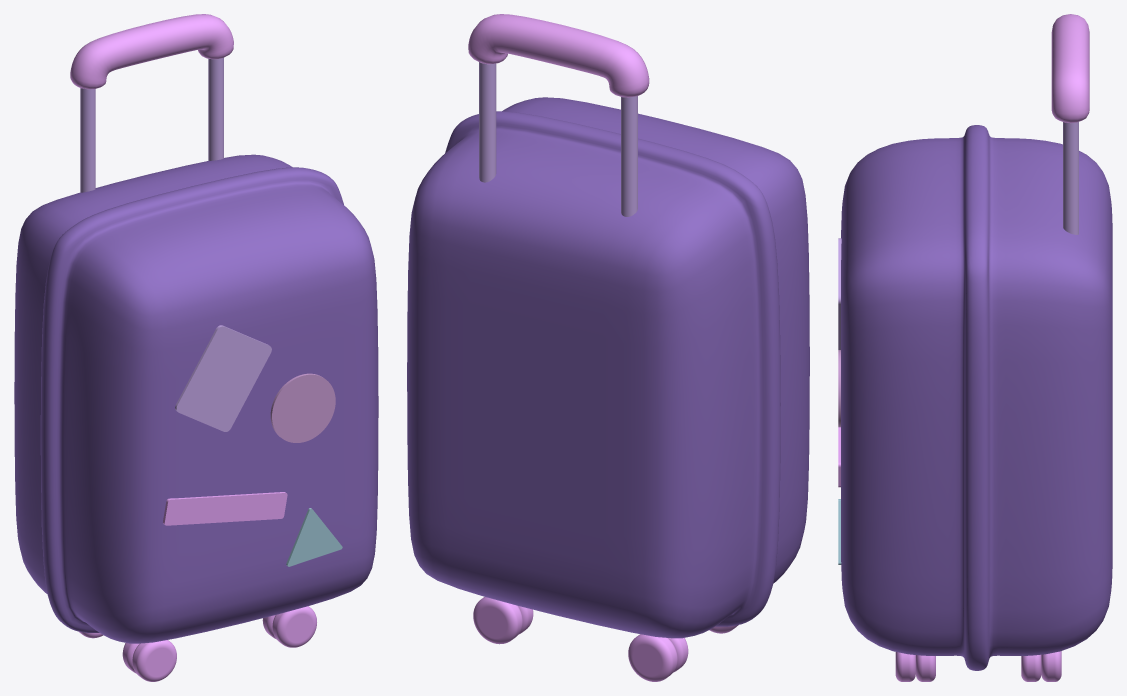
Rendered from Suitcase.gltf.
3 renders of one model, left to right at view 1: azimuth 30°, elevation 25°; view 2: azimuth 150°, elevation 25°; view 3: azimuth 270°, elevation 25°, orthographic. The views are drawn at different scales.
Visible parts, largest first — view 1: Cube, Cube 3, Rectangle 2, Ellipse, Rectangle 3, Cylinder (×2), Triangle, Cylinder 2, Cylinder 4; view 2: Cube, Cube 3, Cylinder 2, Cylinder, Cylinder 4, Cylinder 3; view 3: Cube, Cube 3, Cylinder 2 (×2), Cylinder 3 (×2), Cylinder.
Boxes of the visible parts, x1=… form: Cube: x1=14, y1=154, x2=378, y2=643; Cube 3: x1=70, y1=14, x2=233, y2=89; Rectangle 2: x1=175, y1=325, x2=271, y2=431; Ellipse: x1=270, y1=373, x2=335, y2=442; Rectangle 3: x1=163, y1=492, x2=287, y2=525; Cylinder (×2): x1=80, y1=88, x2=316, y2=647; Triangle: x1=286, y1=508, x2=342, y2=566; Cylinder 2: x1=208, y1=57, x2=223, y2=160; Cylinder 4: x1=132, y1=640, x2=176, y2=681; Cube: x1=407, y1=97, x2=809, y2=638; Cube 3: x1=468, y1=14, x2=649, y2=97; Cylinder 2: x1=479, y1=62, x2=496, y2=182; Cylinder: x1=621, y1=96, x2=637, y2=216; Cylinder 4: x1=628, y1=634, x2=677, y2=681; Cylinder 3: x1=473, y1=597, x2=522, y2=644; Cube: x1=841, y1=125, x2=1112, y2=670; Cube 3: x1=1051, y1=14, x2=1089, y2=123; Cylinder 2 (×2): x1=916, y1=122, x2=1078, y2=681; Cylinder 3 (×2): x1=1021, y1=651, x2=1061, y2=681; Cylinder: x1=895, y1=652, x2=915, y2=681.
Bounding box in the file's own units: 0.9184 × 1.65 × 0.678.
